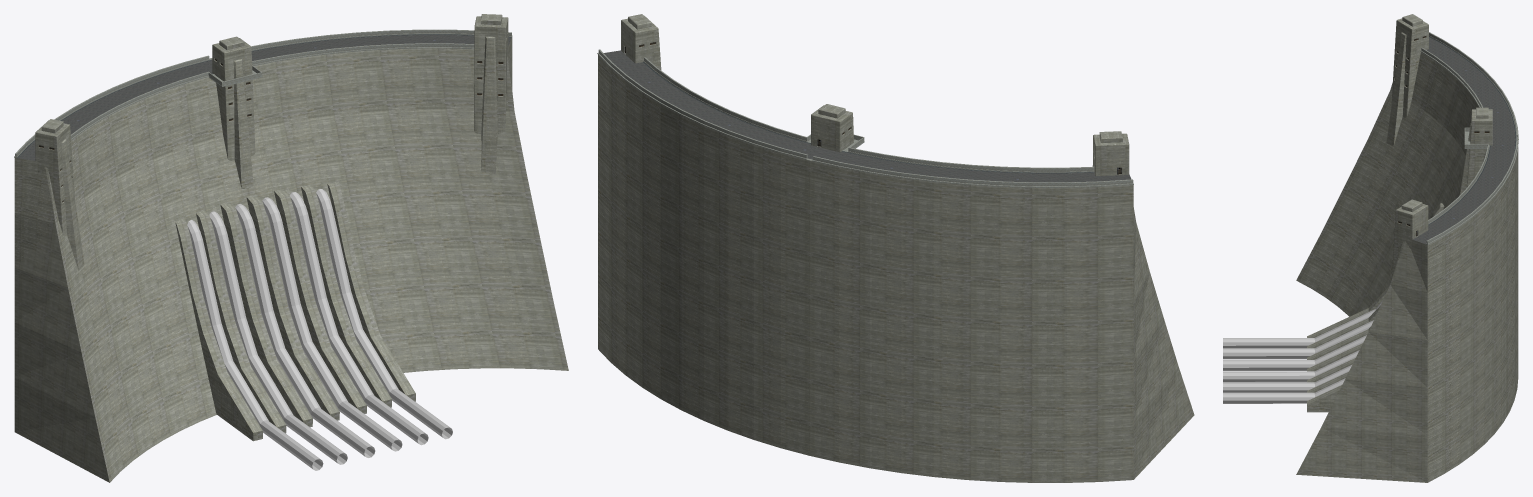
File: Building_2_LOD02.fbx
3 views of the same model, side by side, from view 1: azimuth 30°, elevation 25°; view 2: azimuth 150°, elevation 25°; view 3: azimuth 270°, elevation 25° (orthographic). The views are drawn at different scales.
Parts seen in each view (by area): view 1: Building_2_LOD02; view 2: Building_2_LOD02; view 3: Building_2_LOD02.
Part boxes in pixels (x1,y1,x2,y2): Building_2_LOD02: (14, 14, 568, 482); Building_2_LOD02: (597, 14, 1194, 482); Building_2_LOD02: (1223, 14, 1518, 482).
Bounding box in the file's own units: 170 × 100 × 101.
